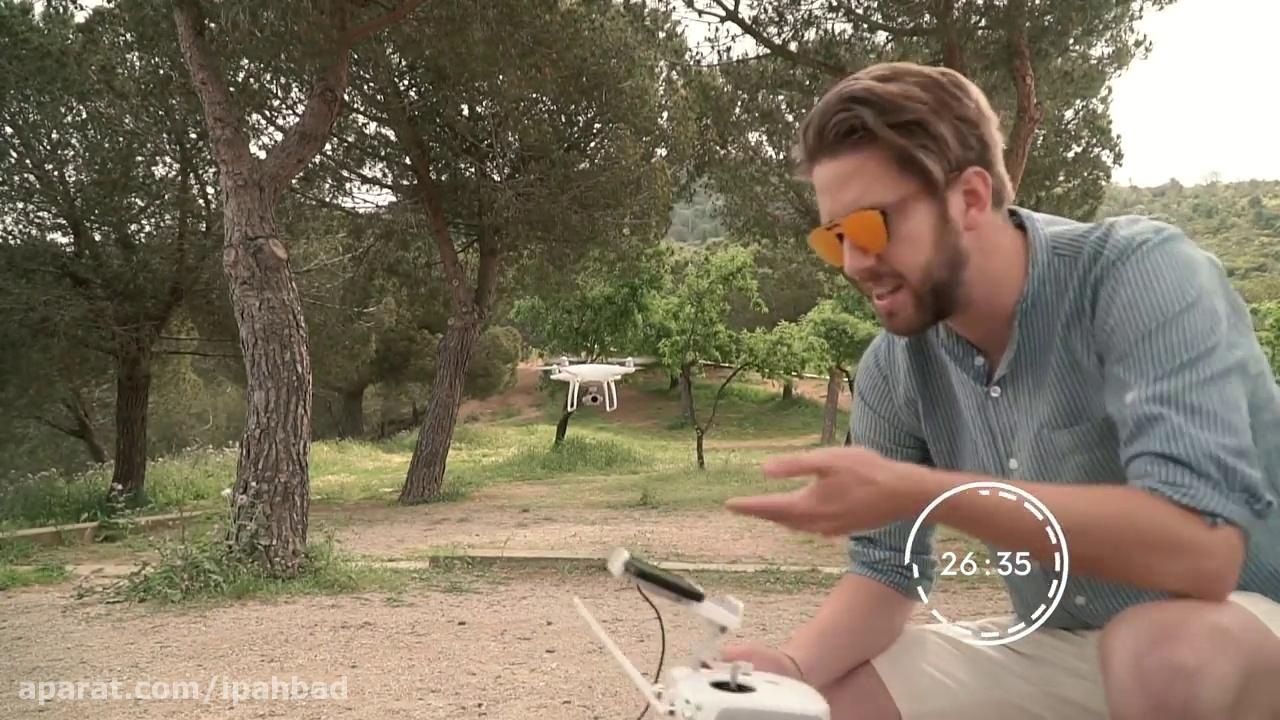drone: (533, 351, 659, 411)
